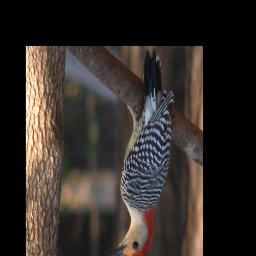Woodpecker: (103, 53, 175, 256)
